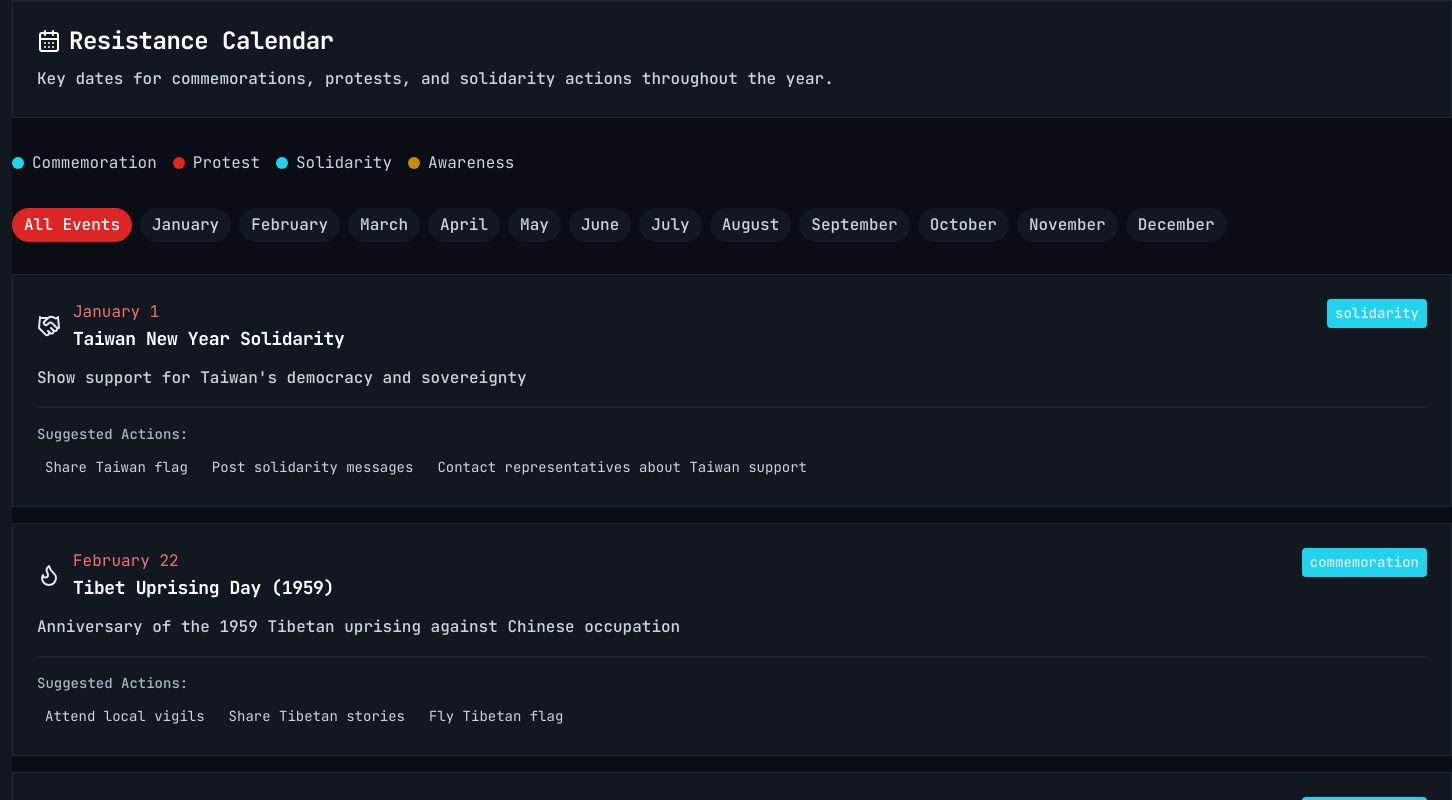
it: EventCalendar › filters events when a month is selected
Click the tab "June".
click(600, 225)  # box [569, 208, 631, 242]
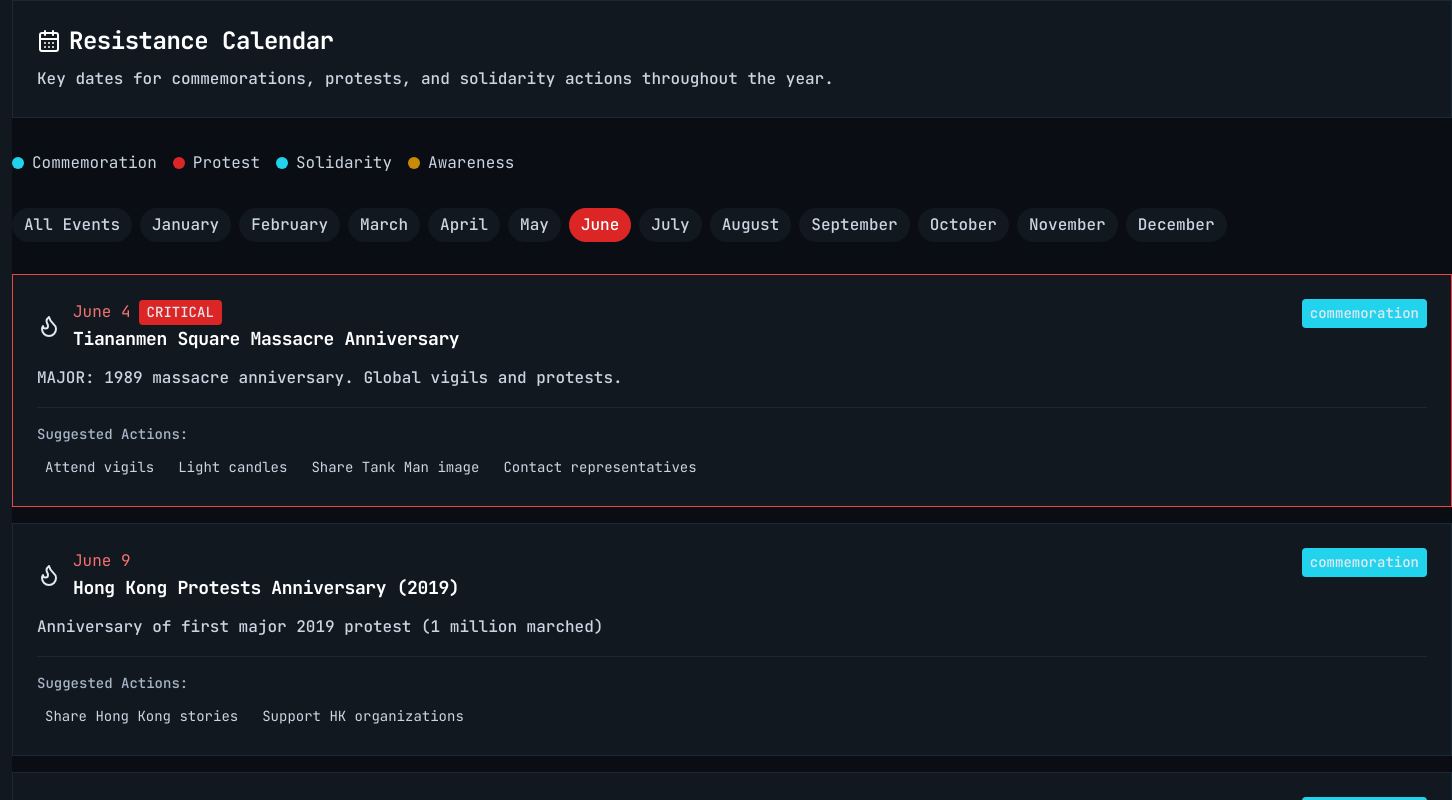
Expected: the heading "Tiananmen Square Massacre Anniversary" is shown, [73, 325, 459, 353]
Expected: the heading "Taiwan New Year Solidarity" is gone
